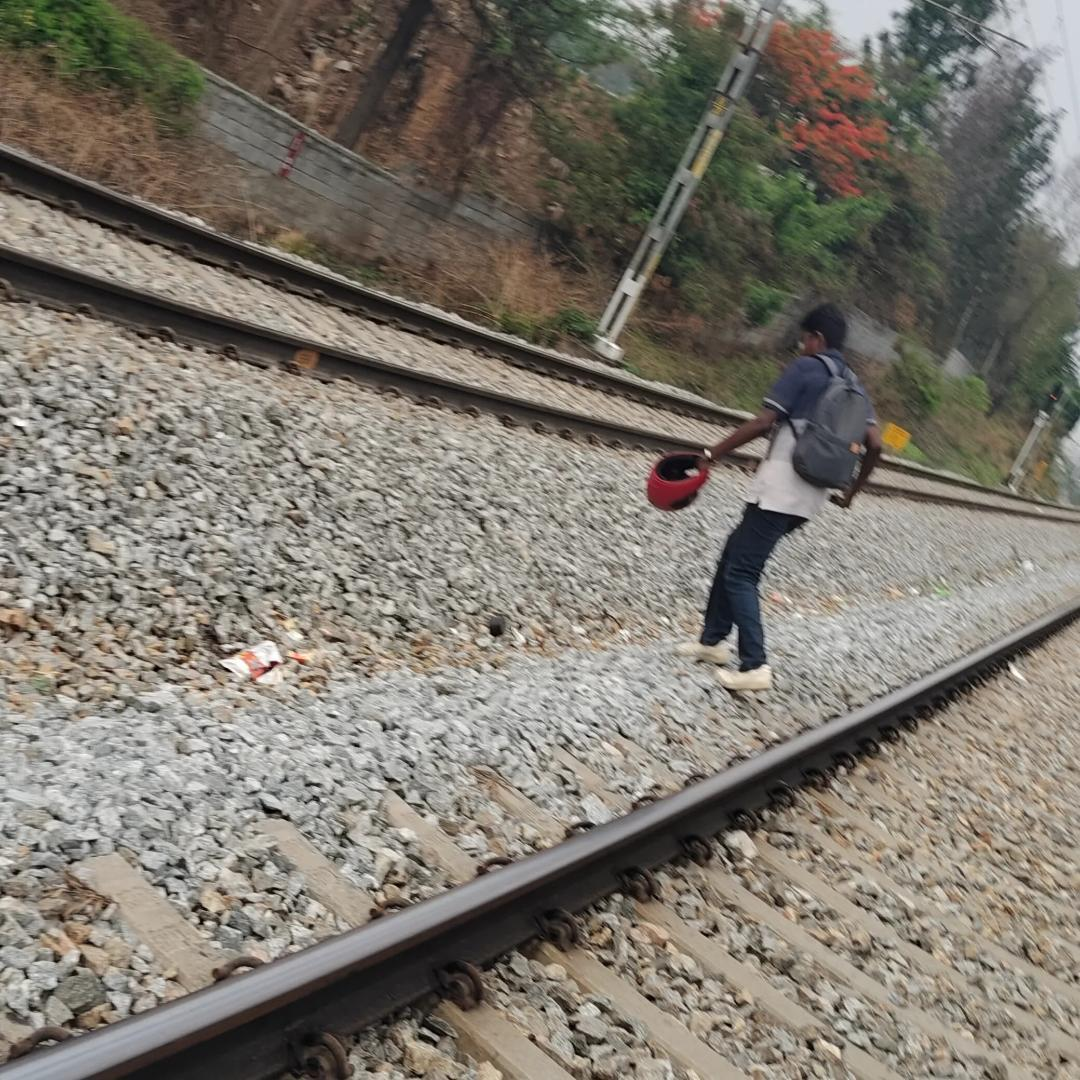standing: (646, 299, 884, 689)
track: (5, 579, 1080, 1080)
